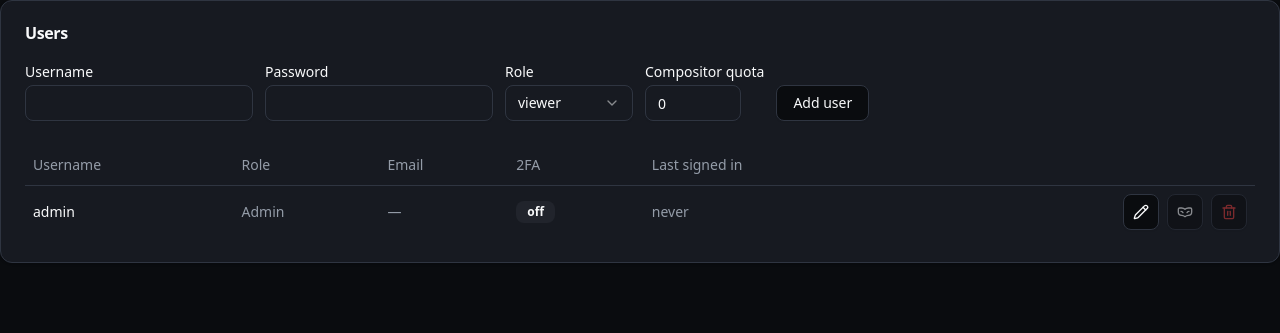
Test: AdminUsersPage › creates a user and refreshes the list
Type "newperson" into the field labelled "Username" at (139, 103), box [25, 85, 253, 121]
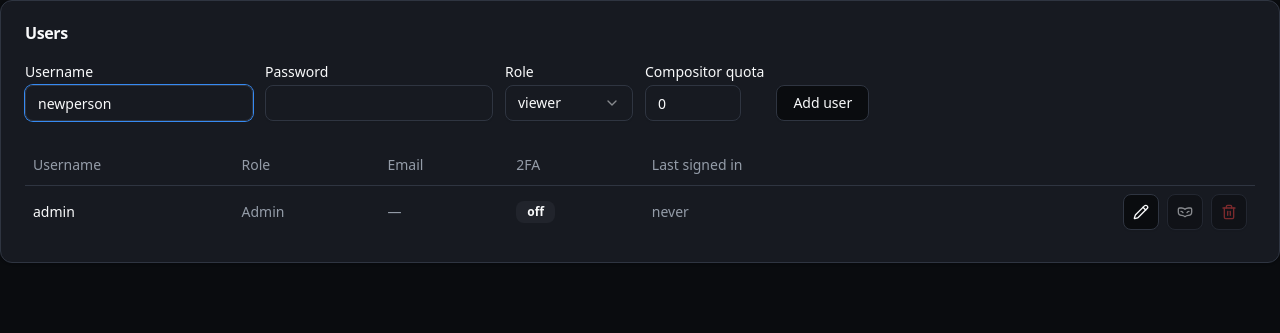
Type "correct-horse-1" into the password field labelled "Password" at (379, 103), box [265, 85, 493, 121]
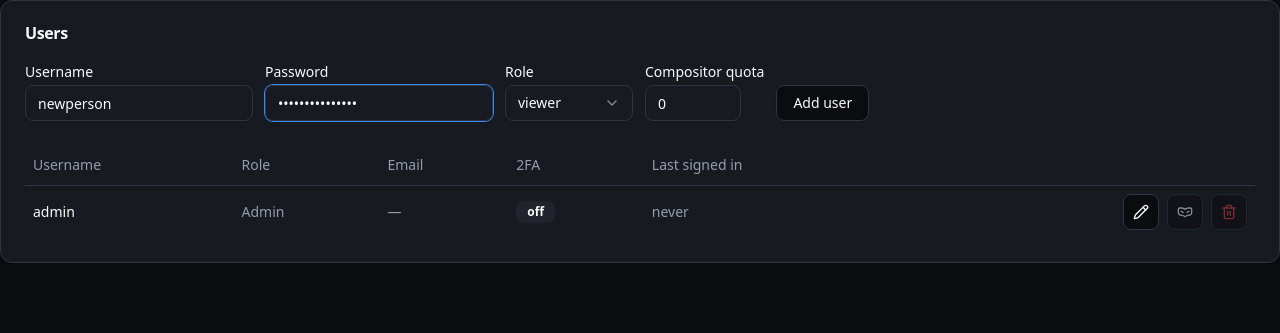
Click the button "Add user" at (823, 103), box [776, 85, 869, 121]
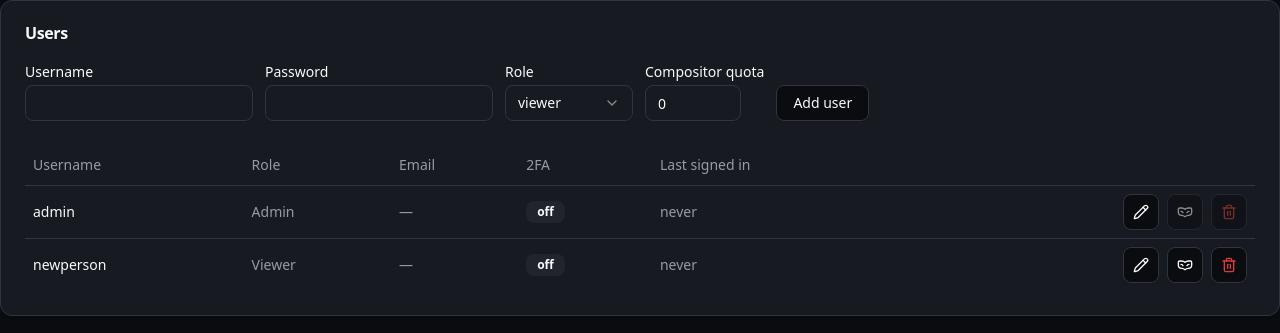
Check: the link "newperson" is shown, box [33, 254, 106, 274]
